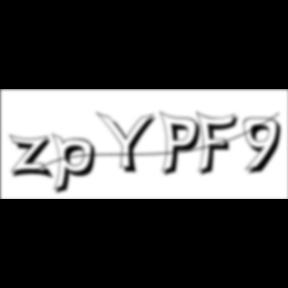9: (242, 117, 288, 177)
F: (196, 110, 244, 178)
P: (160, 110, 206, 180)
Y: (96, 110, 162, 176)
p: (53, 132, 103, 198)
z: (9, 134, 58, 182)
